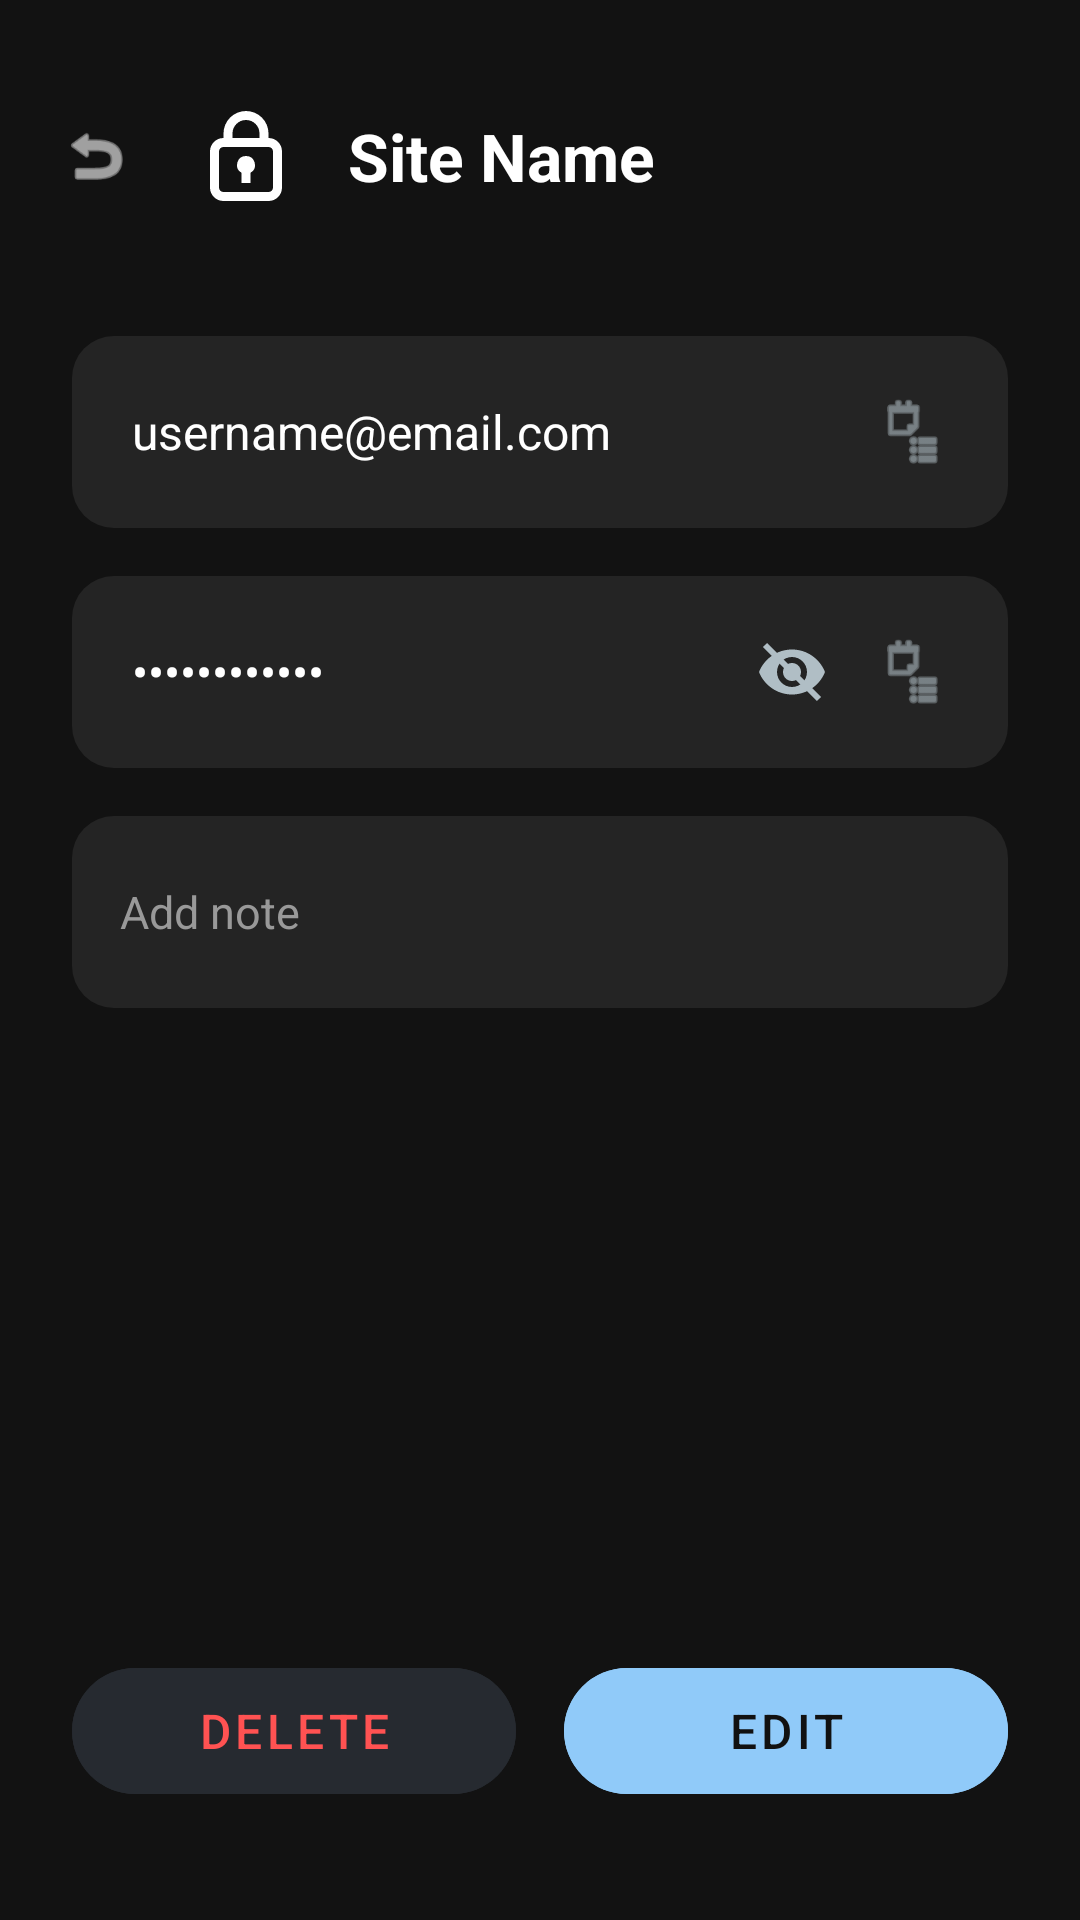

Icon bounding boxes for this 1080px x 1920px phone screenshot, format (x1, y1, x2, y2):
Back: (71, 133, 123, 180)
Copy password: (887, 640, 938, 704)
Copy username: (887, 400, 938, 464)
Toggle visibility: (759, 643, 825, 701)
